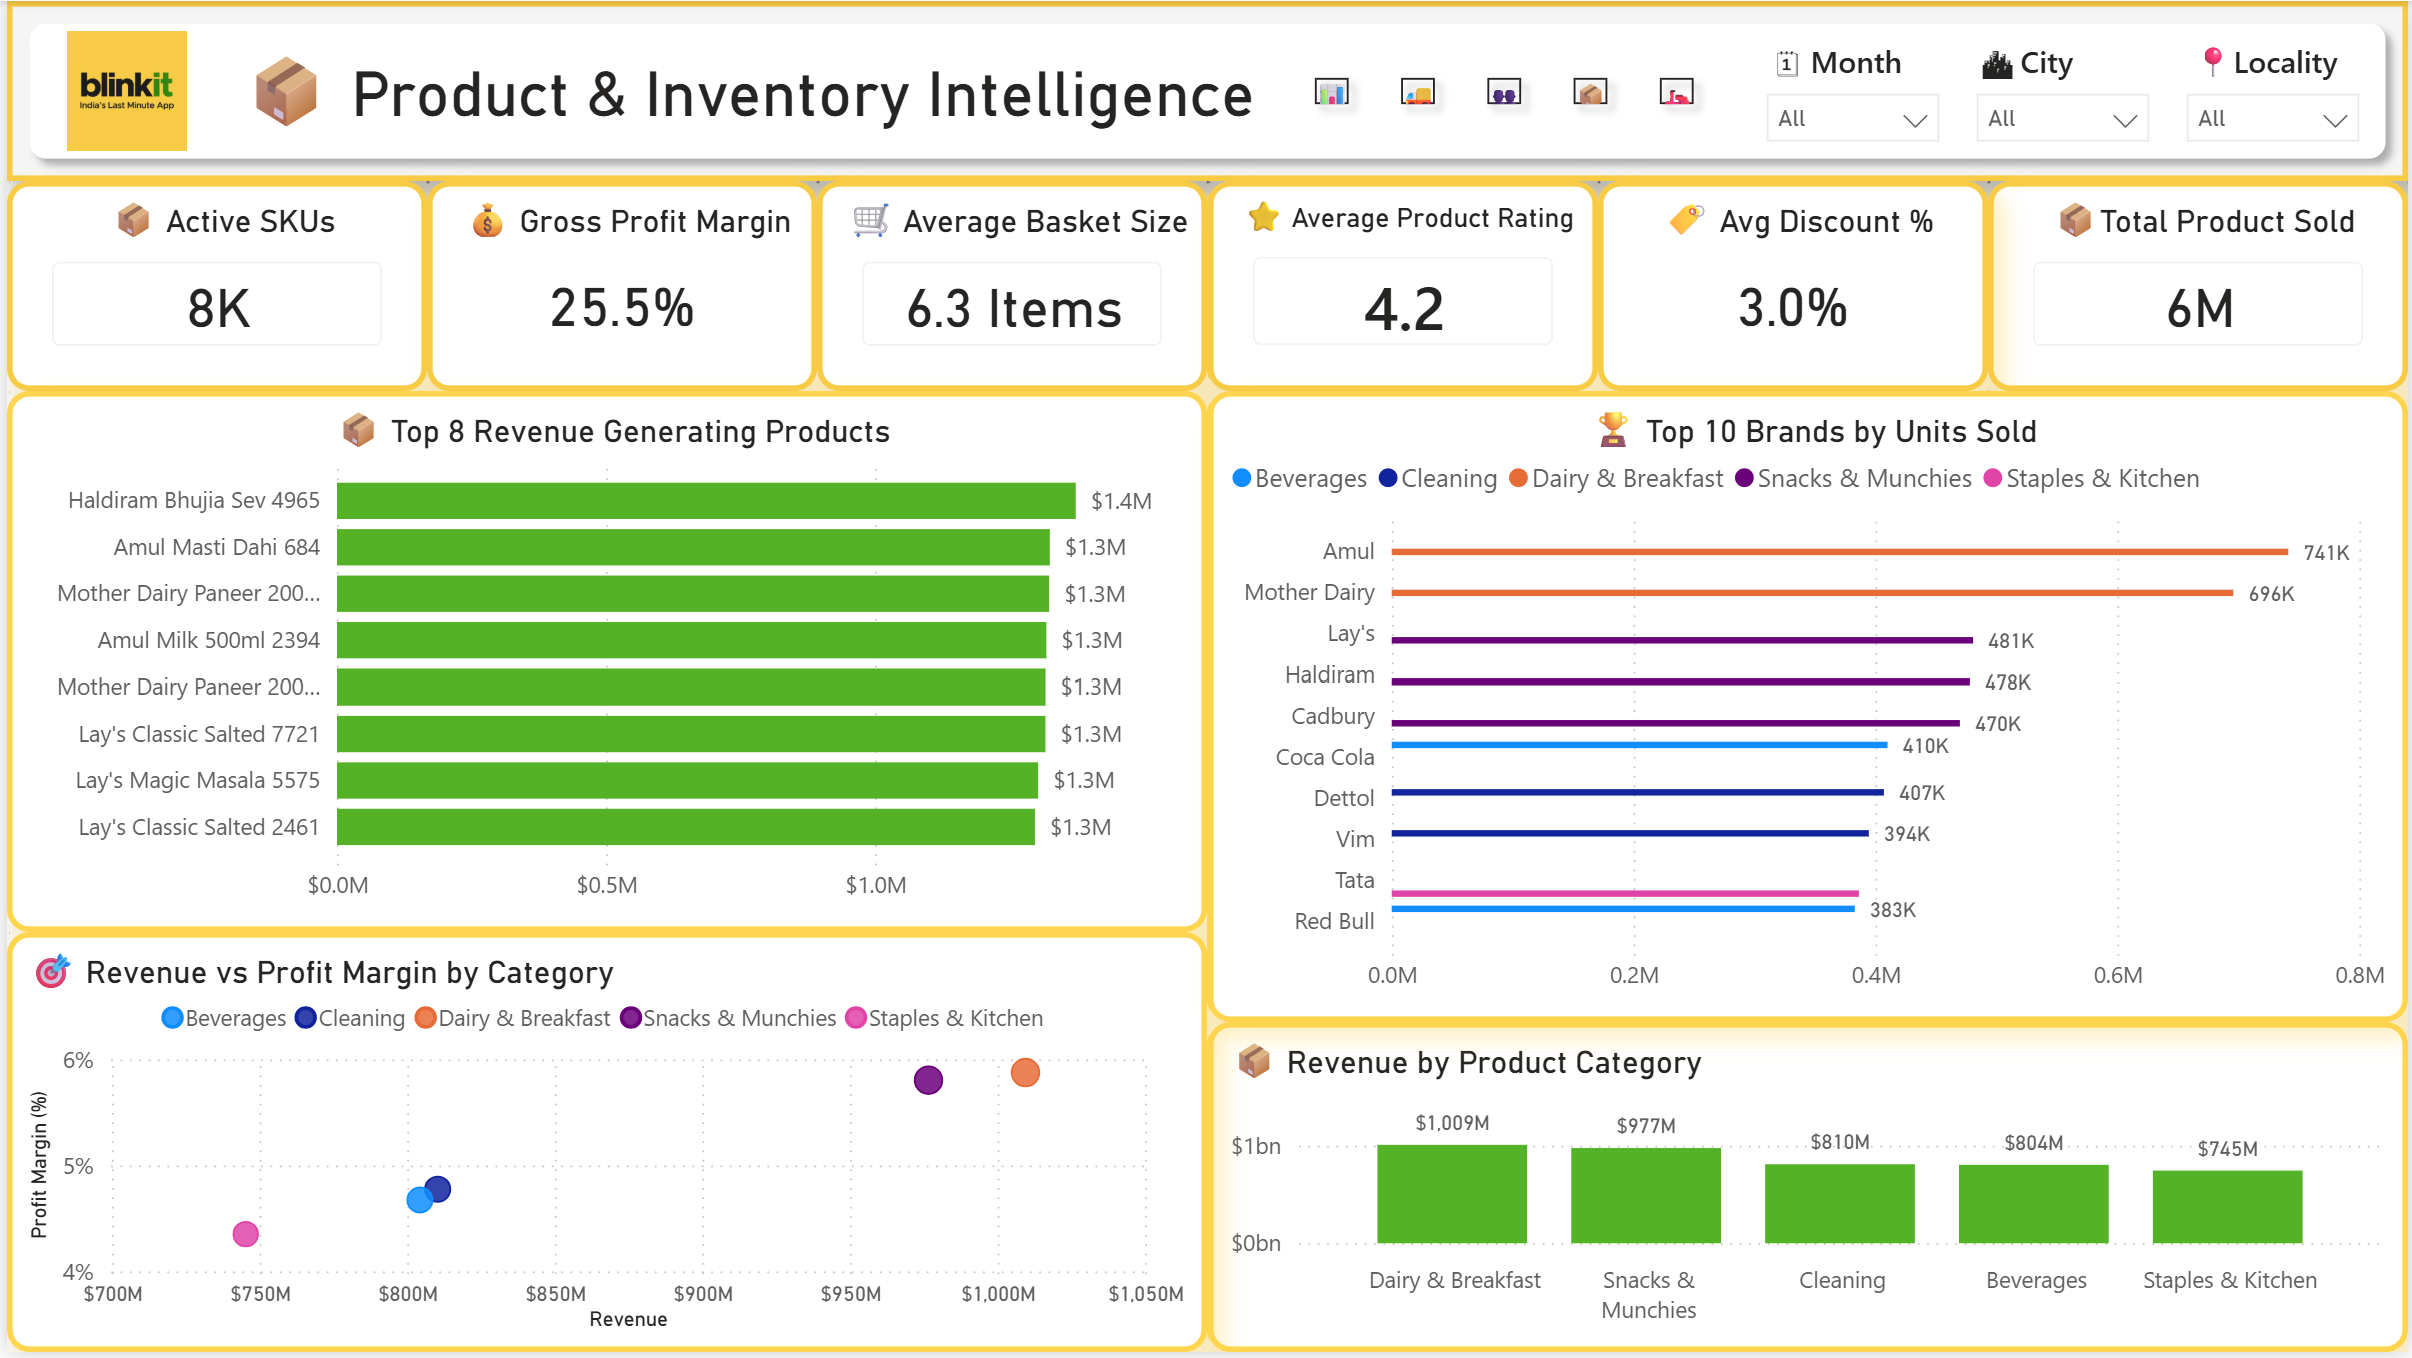

Layout of this report page (visuals, bound fields, positions):
{"tool":"powerbi","page":{"name":"📦 Products","canvas":[1280,720],"ordinal":3},"visuals":[{"type":"shape","box":[0,0,1280,96],"z":0},{"type":"textbox","box":[16,16,704,64],"z":1000},{"type":"slicer","fields":{"Values":["Customers.city"]},"box":[1040,16,112,64],"z":2000},{"type":"slicer","fields":{"Values":["Store.locality"]},"box":[1152,16,112,64],"z":3000},{"type":"slicer","fields":{"Values":["Calender.date.Variation.Date Hierarchy.Month"]},"box":[928,16,112,64],"z":4000},{"type":"image","box":[0,16,128,64],"z":5000},{"type":"cardVisual","title":"📦 Active SKUs","fields":{"Data":["Key_Metrices.Active SKUs"]},"box":[0,96,224,112],"z":6000},{"type":"card","title":"💰 Gross Profit Margin ","fields":{"Values":["Key_Metrices.Gross Profit Margin %"]},"box":[224,96,208,112],"z":7000},{"type":"cardVisual","title":"🛒 Average Basket Size","fields":{"Data":["Key_Metrices.Average Basket Size"]},"box":[432,96,208,112],"z":8000},{"type":"cardVisual","title":"📦Total Product Sold","fields":{"Data":["Key_Metrices.Total Products Sold"]},"box":[1056,96,224,112],"z":9000},{"type":"cardVisual","title":"⭐ Average Product Rating","fields":{"Data":["Key_Metrices.Average Product Rating"]},"box":[640,96,208,112],"z":10000},{"type":"card","title":"🏷️ Avg Discount %","fields":{"Values":["Key_Metrices.Average Discount %"]},"box":[848,96,208,112],"z":11000},{"type":"clusteredBarChart","title":"📦 Top 8 Revenue Generating Products","fields":{"Category":["Products.product_name"],"Y":["Sum(Order_Items.total_price)"]},"box":[0,208,640,288],"z":12000},{"type":"clusteredColumnChart","title":"📦 Revenue by Product Category","fields":{"Category":["Products.category"],"Y":["Key_Metrices.Product Revenue"]},"box":[640,544,640,176],"z":13000},{"type":"scatterChart","title":"🎯 Revenue vs Profit Margin by Category","fields":{"X":["Key_Metrices.Product Revenue"],"Y":["Key_Metrices.Profit Margin %"],"Series":["Products.category"],"Size":["Key_Metrices.Total Products Sold"]},"box":[0,496,640,224],"z":14000},{"type":"clusteredBarChart","title":"🏆 Top 10 Brands by Units Sold","fields":{"Category":["Products.brand"],"Y":["Key_Metrices.Total Products Sold"],"Series":["Products.category"]},"box":[640,208,640,336],"z":15000},{"type":"pageNavigator","box":[688,32,224,32],"z":16000}]}

Visuals, with their boxes in screenshot pixels (x1, y1, x2, y2), scaled from the page's 1280x720 canvas onto the 2412x1358 screenshot:
shape: BBox(0, 0, 2411, 181)
textbox: BBox(30, 30, 1357, 151)
slicer - Customers.city: BBox(1960, 30, 2171, 151)
slicer - Store.locality: BBox(2171, 30, 2382, 151)
slicer - Calender.date.Variation.Date Hierarchy.Month: BBox(1749, 30, 1960, 151)
image: BBox(0, 30, 241, 151)
"📦 Active SKUs" cardVisual: BBox(0, 181, 422, 392)
"💰 Gross Profit Margin " card: BBox(422, 181, 814, 392)
"🛒 Average Basket Size" cardVisual: BBox(814, 181, 1206, 392)
"📦Total Product Sold" cardVisual: BBox(1990, 181, 2411, 392)
"⭐ Average Product Rating" cardVisual: BBox(1206, 181, 1598, 392)
"🏷️ Avg Discount %" card: BBox(1598, 181, 1990, 392)
"📦 Top 8 Revenue Generating Products" clusteredBarChart: BBox(0, 392, 1206, 936)
"📦 Revenue by Product Category" clusteredColumnChart: BBox(1206, 1026, 2411, 1357)
"🎯 Revenue vs Profit Margin by Category" scatterChart: BBox(0, 936, 1206, 1357)
"🏆 Top 10 Brands by Units Sold" clusteredBarChart: BBox(1206, 392, 2411, 1026)
pageNavigator: BBox(1296, 60, 1719, 121)
